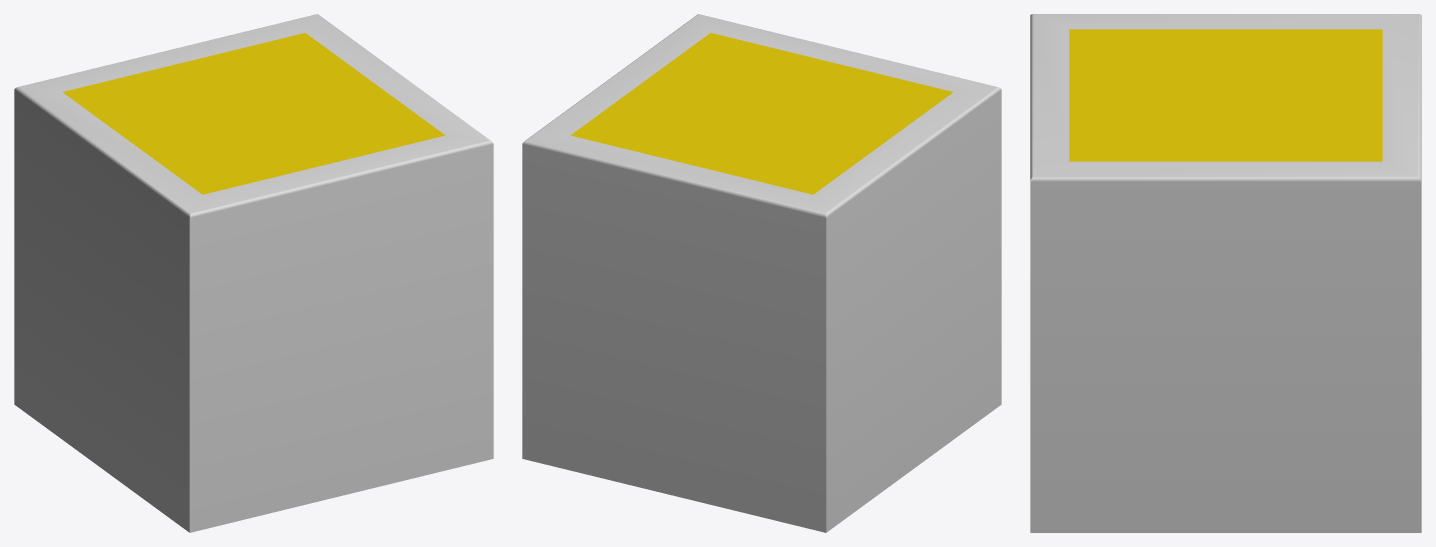
3 views of the same model, side by side, from view 1: azimuth 30°, elevation 25°; view 2: azimuth 150°, elevation 25°; view 3: azimuth 270°, elevation 25° (orthographic). The views are drawn at different scales.
Visible parts, largest first — view 1: Cube; view 2: Cube; view 3: Cube.
Boxes of the visible parts, x1,y1,x2,y2 form: Cube: (14, 14, 493, 532); Cube: (522, 14, 1001, 532); Cube: (1030, 14, 1421, 532).
Size of the model in its own units: 100 by 100 by 100.
